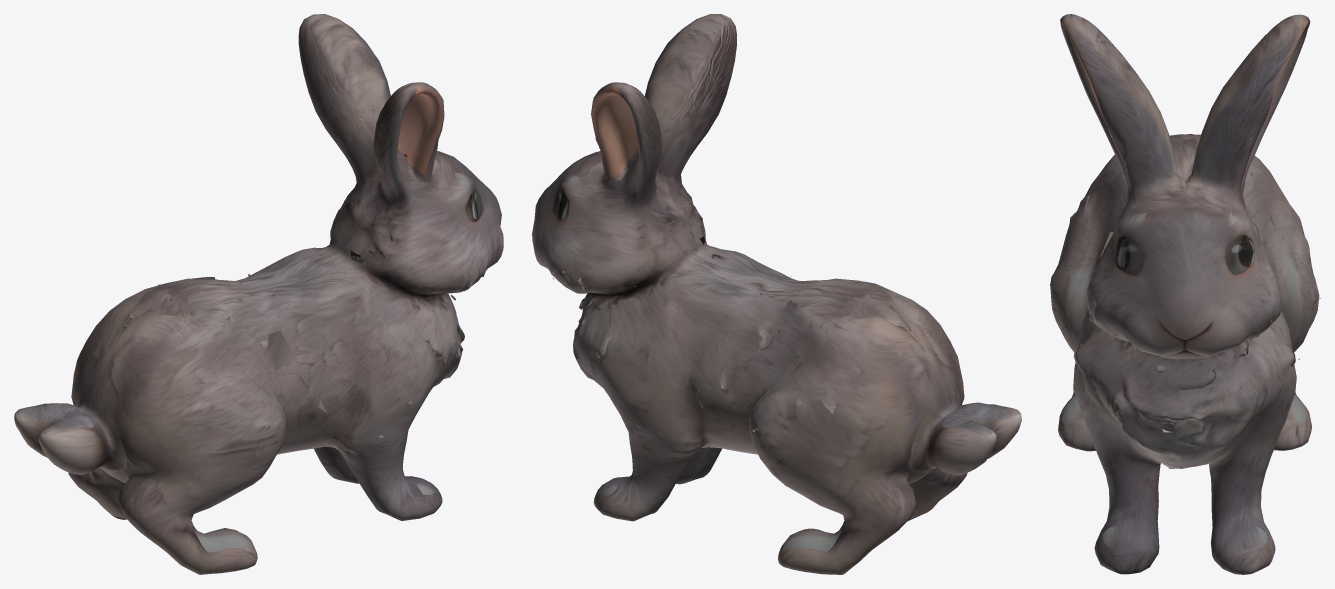
3 views of the same model, side by side, from view 1: azimuth 30°, elevation 25°; view 2: azimuth 150°, elevation 25°; view 3: azimuth 270°, elevation 25° (orthographic). The views are drawn at different scales.
Visible parts, largest first — view 1: tripo_node_884e501b; view 2: tripo_node_884e501b; view 3: tripo_node_884e501b.
Part boxes in pixels (x1,y1,x2,y2): tripo_node_884e501b: (14, 14, 503, 574); tripo_node_884e501b: (532, 14, 1021, 574); tripo_node_884e501b: (1050, 14, 1320, 574).
Size of the model in its own units: 0.9991 by 0.9143 by 0.4198.
